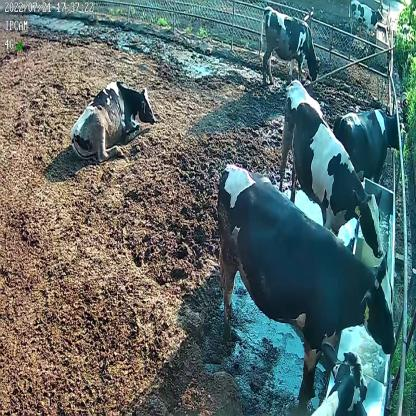cow: (216, 164, 396, 388), (278, 76, 384, 261), (73, 80, 157, 162), (334, 105, 402, 181), (260, 3, 320, 88)
